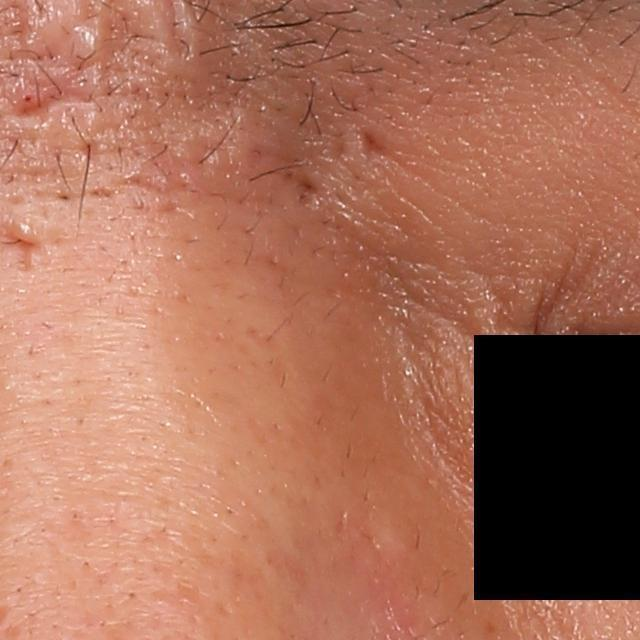atrophic_scar: (10, 82, 99, 121), (7, 225, 47, 269), (350, 124, 390, 154)
hypertrophic_scar: (354, 488, 429, 573)
